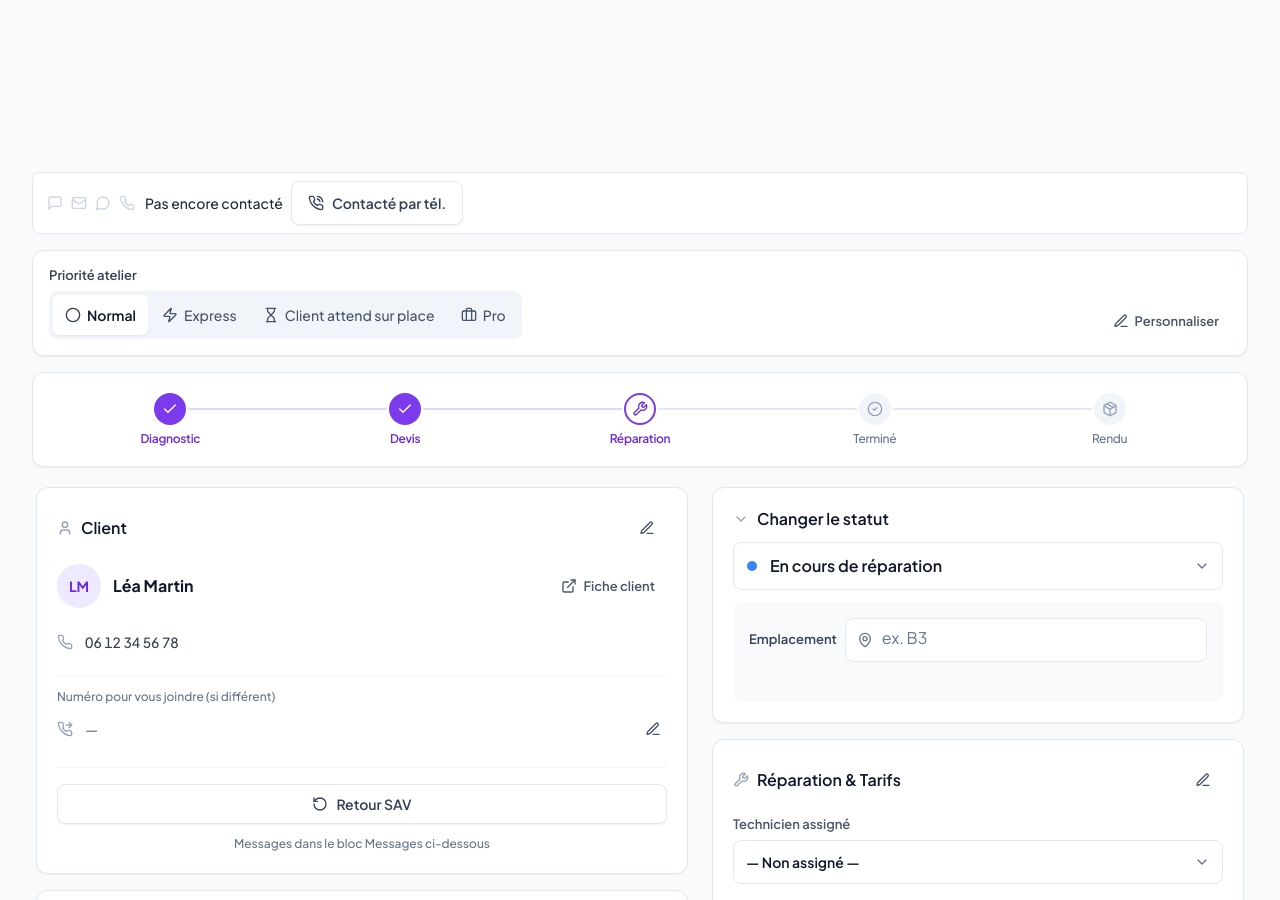
Test: Fiche : « Réparation terminée » → carte « Prévenir » › SMS envoyé par le serveur en 1 clic : notes relues, modale fermée, aucune note en double
Step 1. Select "Réparation terminée" in the dropdown labelled "Changer le statut" → (978, 566), box [733, 542, 1223, 590]
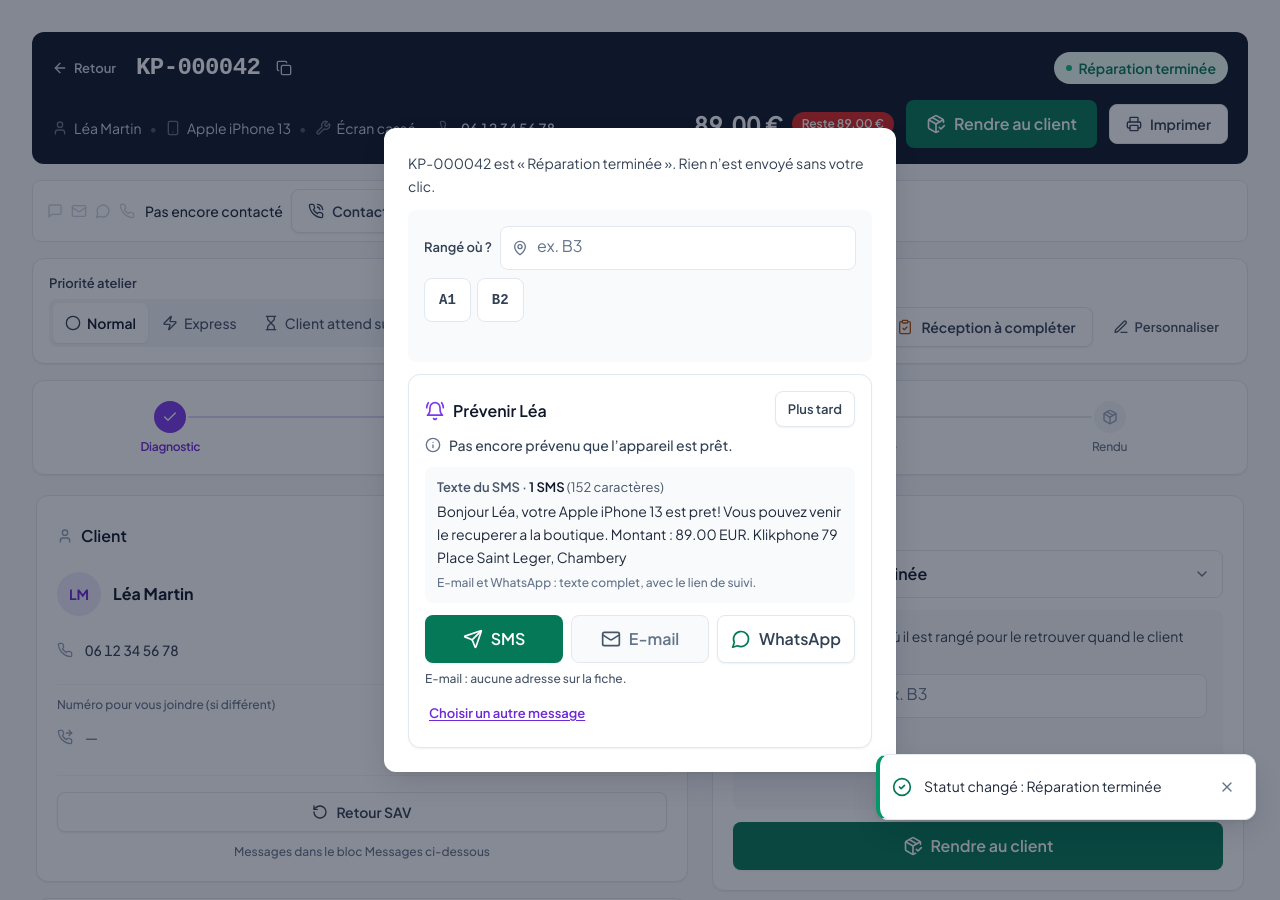
Result: the text "Pas encore prévenu que l’appareil est prêt." is shown at [449, 434, 733, 454]
Step 2. Click the button "SMS" → (494, 639), box [425, 615, 563, 663]
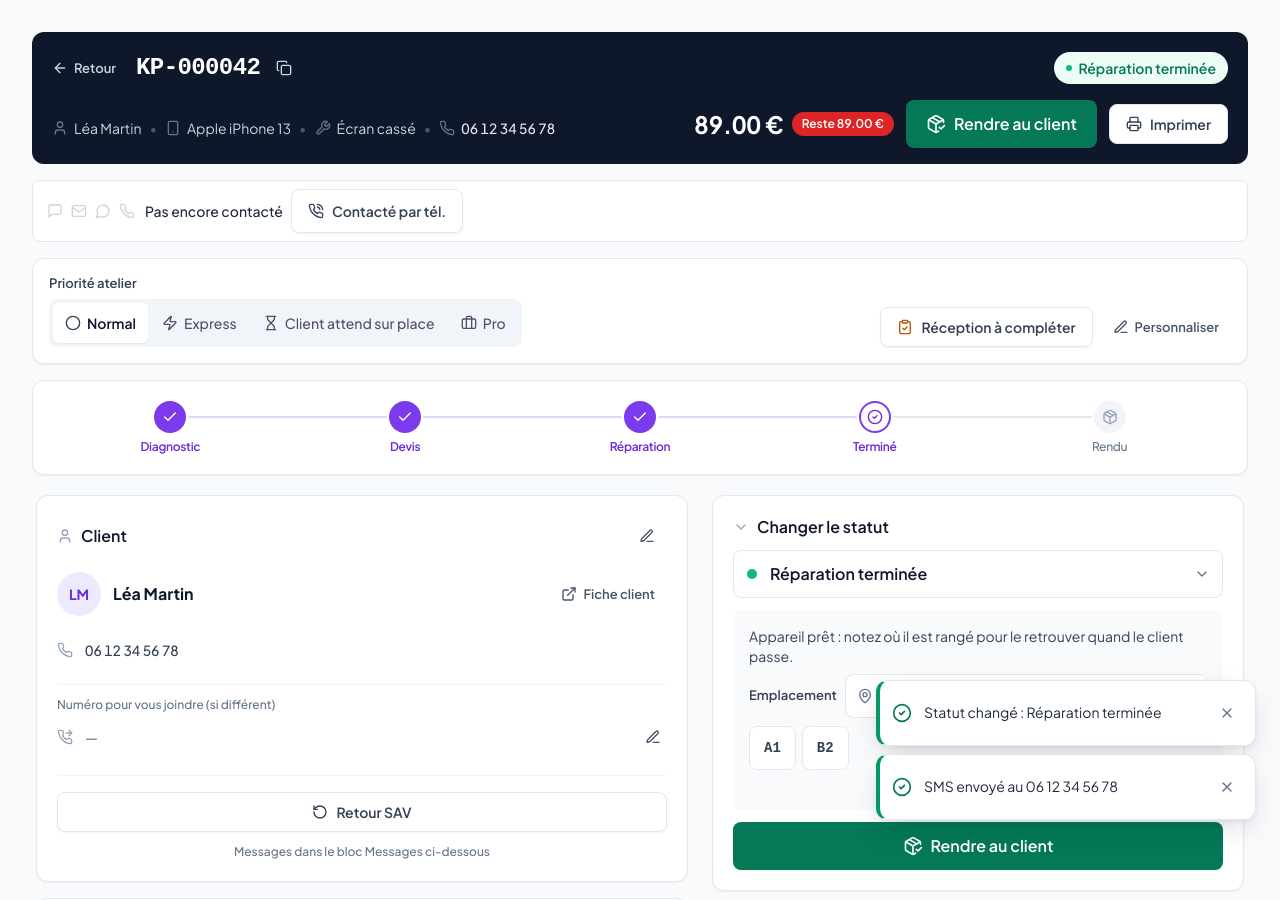
Result: the dialog is gone
Result: the text "SMS envoyé au 06 12 34 56 78" is shown at [924, 777, 1118, 795]
